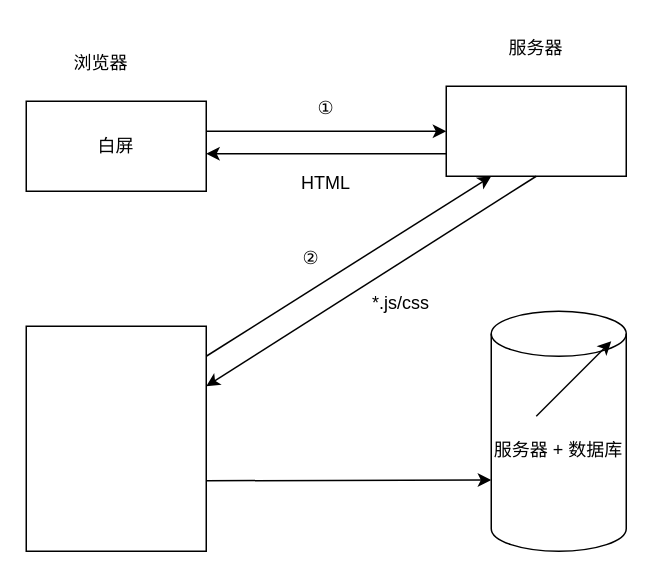
Some shapes in this 653 by 578 pixel diagram are drawn without their labels. Each missing label, with the box of its shape:
CDN: (445, 85, 626, 176)
渲染好的页面: (25, 325, 206, 551)
